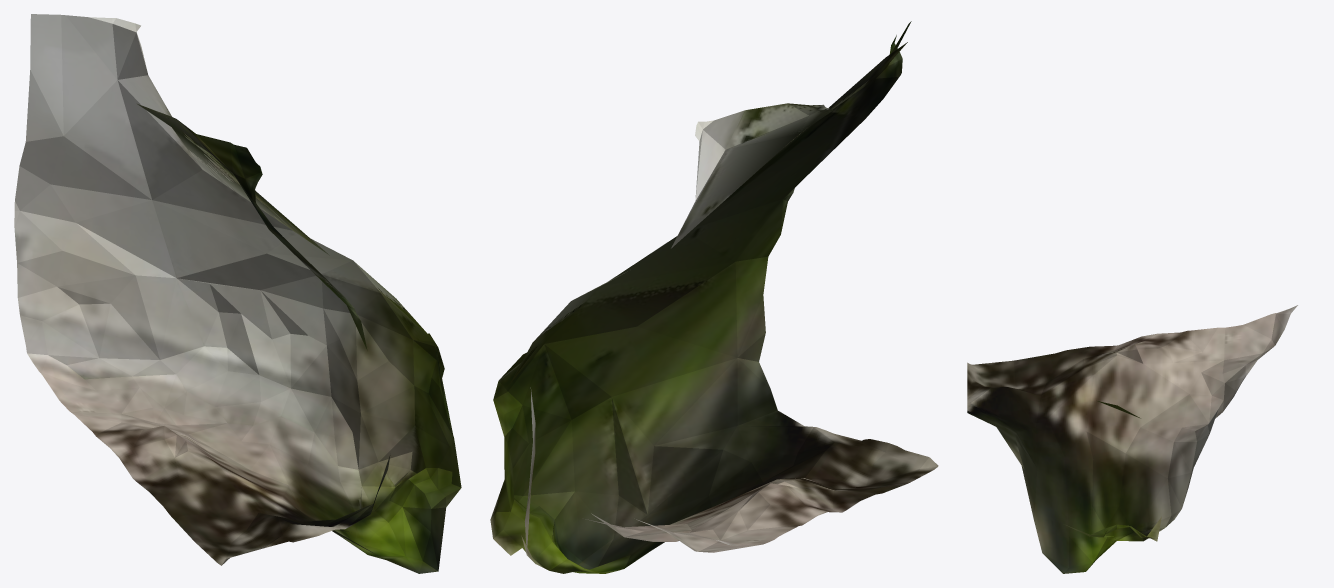
The picture shows the model from 3 angles, left to right: view 1: azimuth 30°, elevation 25°; view 2: azimuth 150°, elevation 25°; view 3: azimuth 270°, elevation 25°; orthographic projection. The views are drawn at different scales.
Bounding box in the file's own units: 1 × 1.61 × 1.15.
3 materials, 3 textured.
